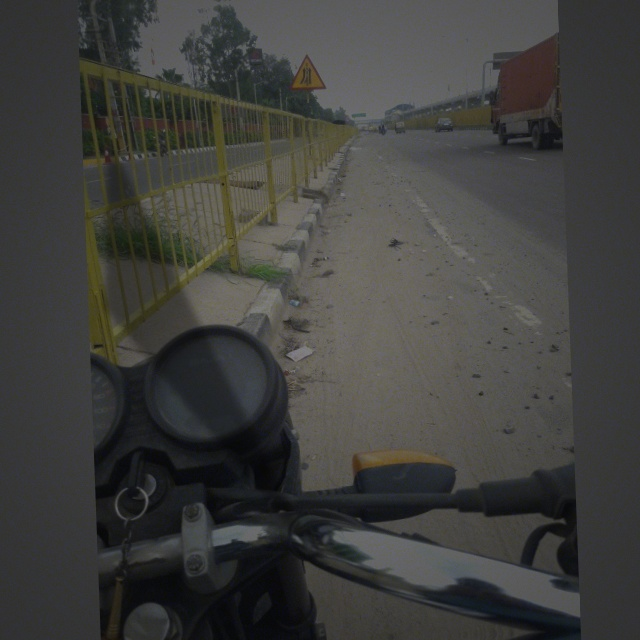Merge_Traffic_Ahead: (286, 46, 334, 97)
